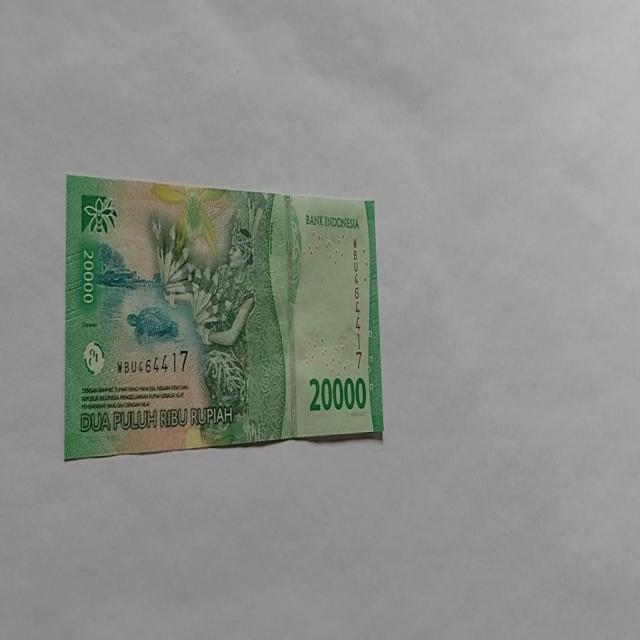dua puluh ribu rupiah: (64, 174, 384, 460), (150, 189, 288, 447)
